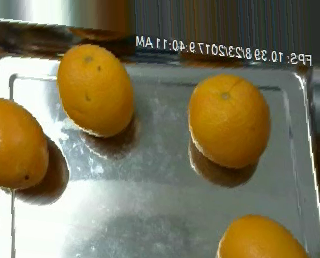Orange: (188, 72, 273, 168), (57, 43, 134, 136), (1, 97, 48, 191), (215, 214, 308, 258)
